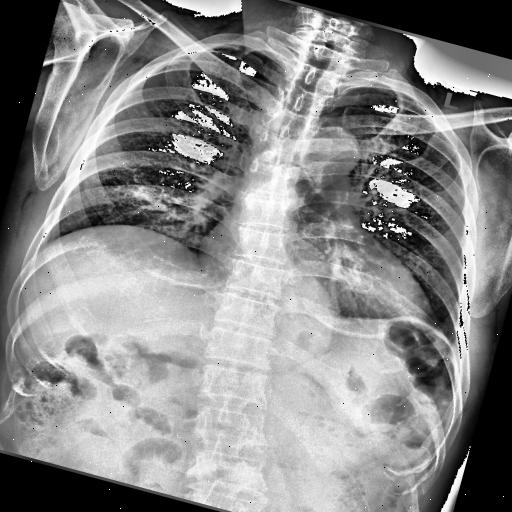0- Aortic enlargement: (286, 112, 372, 192), (288, 116, 366, 188), (294, 114, 370, 185)
11- Pleural thickening: (210, 36, 250, 56)
3- Cardiomegaly: (184, 212, 444, 340), (192, 214, 441, 340), (194, 206, 444, 330)
